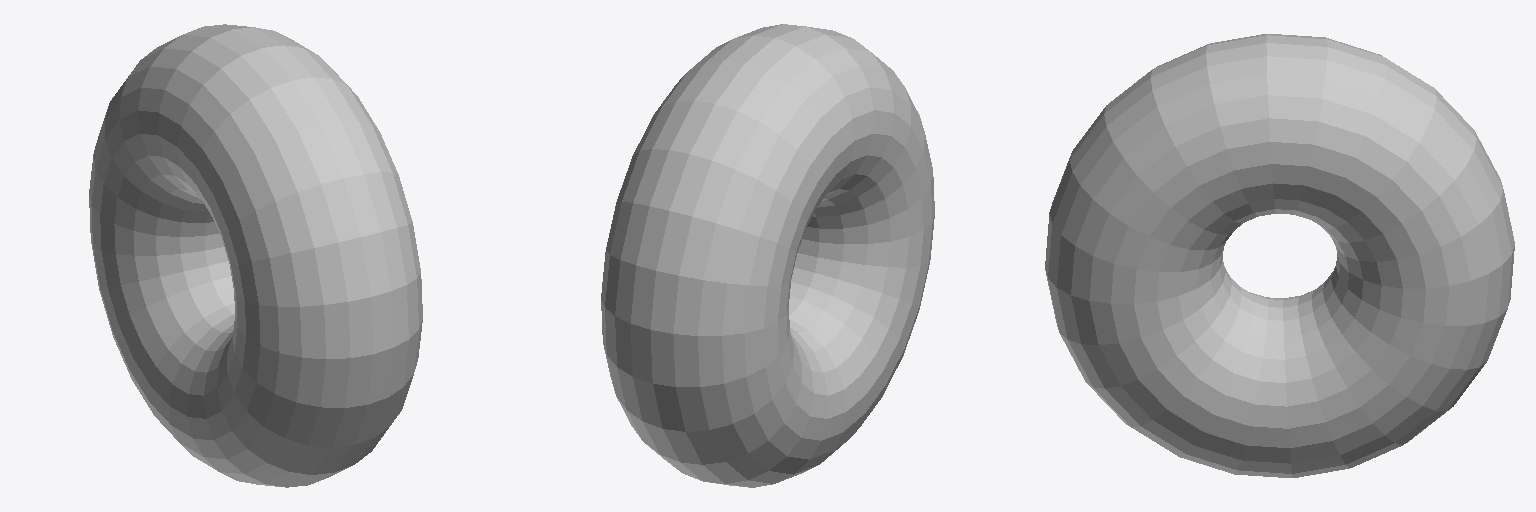
Rendered from tape1.obj.
The picture shows the model from 3 angles: view 1: azimuth 30°, elevation 25°; view 2: azimuth 150°, elevation 25°; view 3: azimuth 270°, elevation 25°; orthographic projection.
Size of the model in its own units: 0.0183 by 0.0449 by 0.0449.